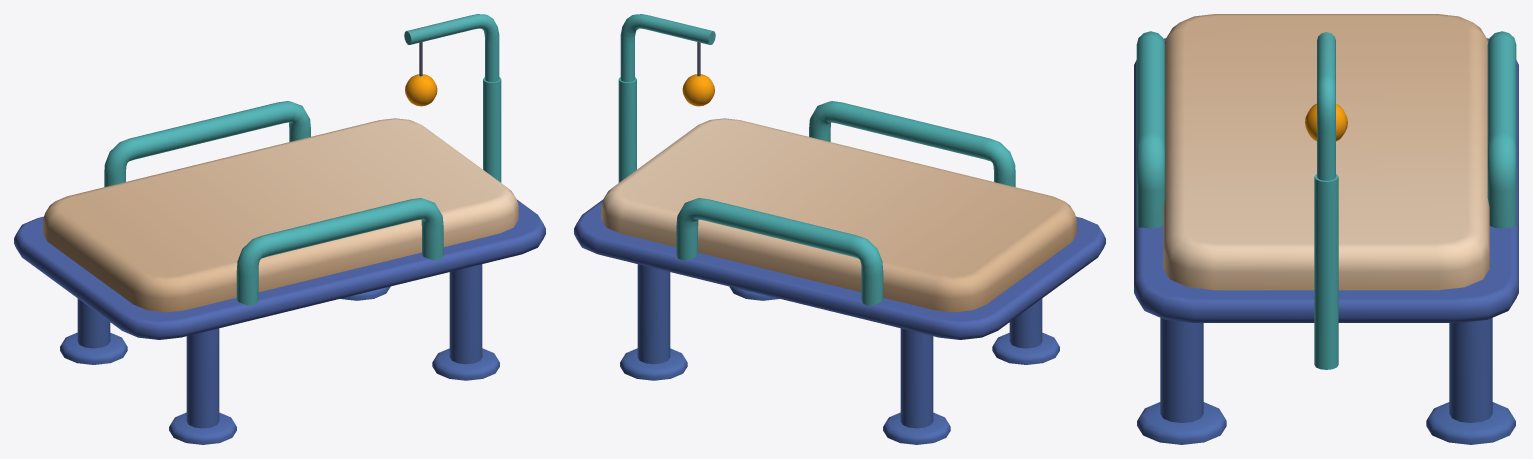
Rendered from TablePet_02.fbx.
3 views of the same model, side by side, from view 1: azimuth 30°, elevation 25°; view 2: azimuth 150°, elevation 25°; view 3: azimuth 270°, elevation 25° (orthographic). The views are drawn at different scales.
Visible parts, largest first — view 1: TablePet_02; view 2: TablePet_02; view 3: TablePet_02.
Boxes of the visible parts, x1,y1,x2,y2 form: TablePet_02: (14, 14, 545, 444); TablePet_02: (574, 14, 1105, 444); TablePet_02: (1134, 14, 1518, 444).
Size of the model in its own units: 116 by 76.3 by 67.97.
